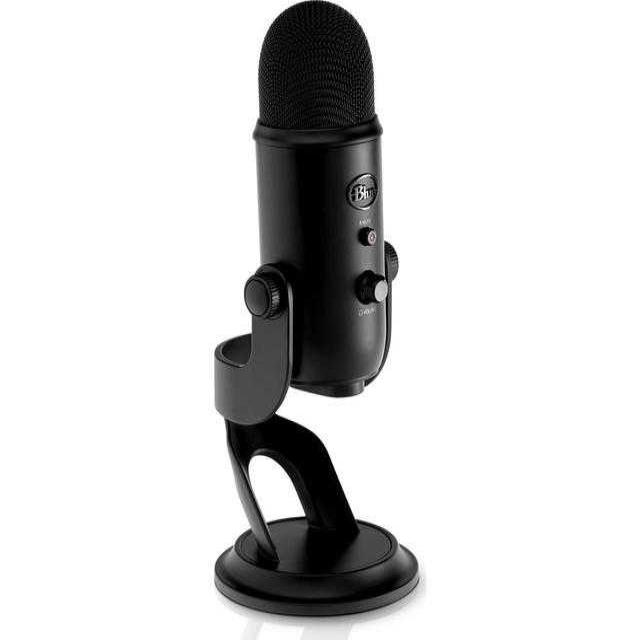microphone: (181, 5, 600, 623), (249, 3, 388, 400)
